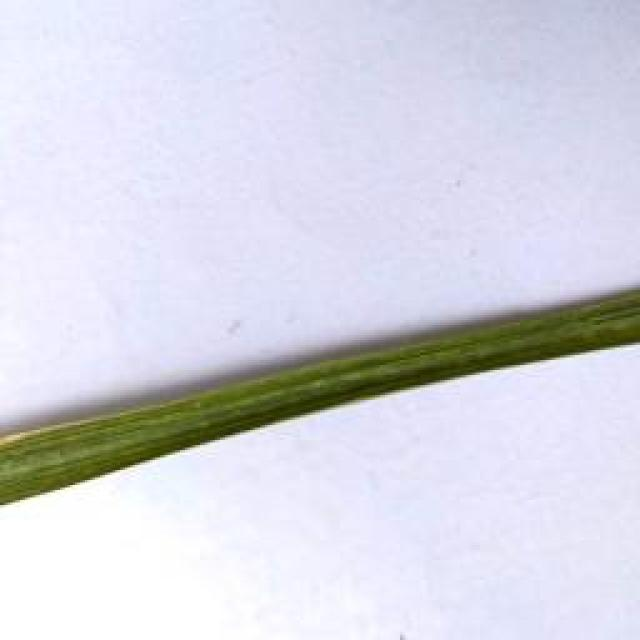Bacterial_Blight: (0, 418, 101, 446)
